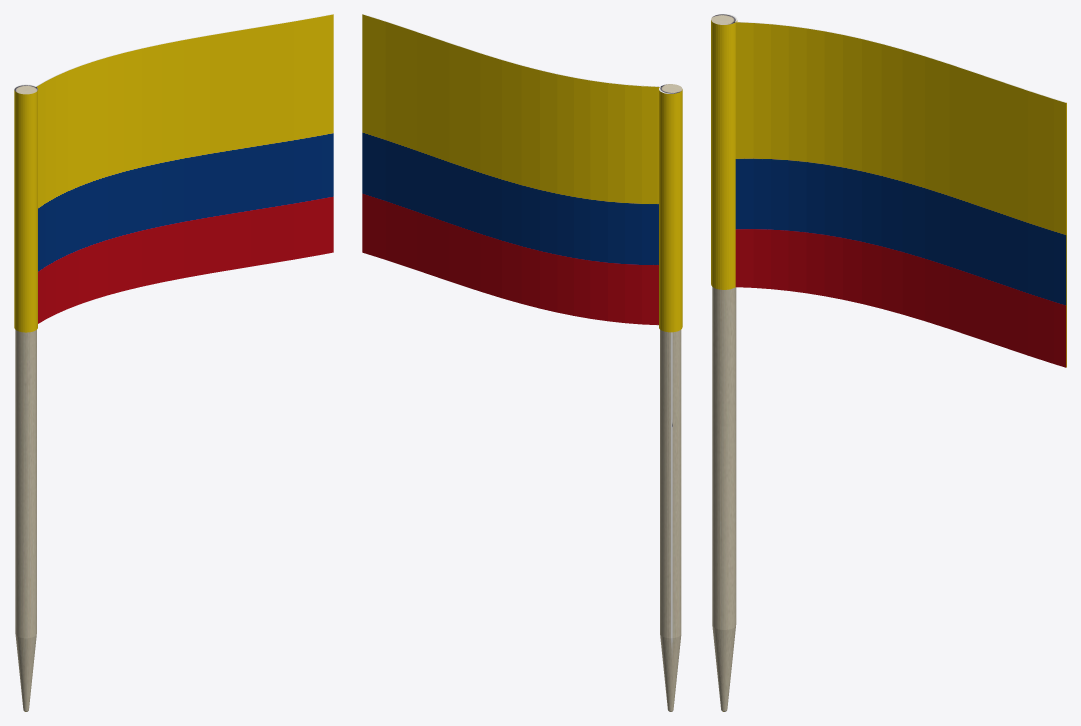
File: Colombia_flag.fbx
3 renders of one model, left to right at view 1: azimuth 30°, elevation 25°; view 2: azimuth 150°, elevation 25°; view 3: azimuth 330°, elevation 25°, orthographic. The views are drawn at different scales.
Parts seen in each view (by area): view 1: Toothpick flag; view 2: Toothpick flag; view 3: Toothpick flag.
Part boxes in pixels (x1,y1,x2,y2): Toothpick flag: (14, 14, 333, 711); Toothpick flag: (362, 14, 682, 711); Toothpick flag: (711, 14, 1066, 711).
Size of the model in its own units: 3.42 by 6.4 by 0.3623.
